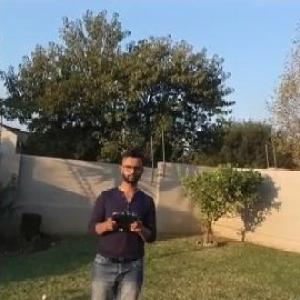follow: (86, 139, 166, 299)
